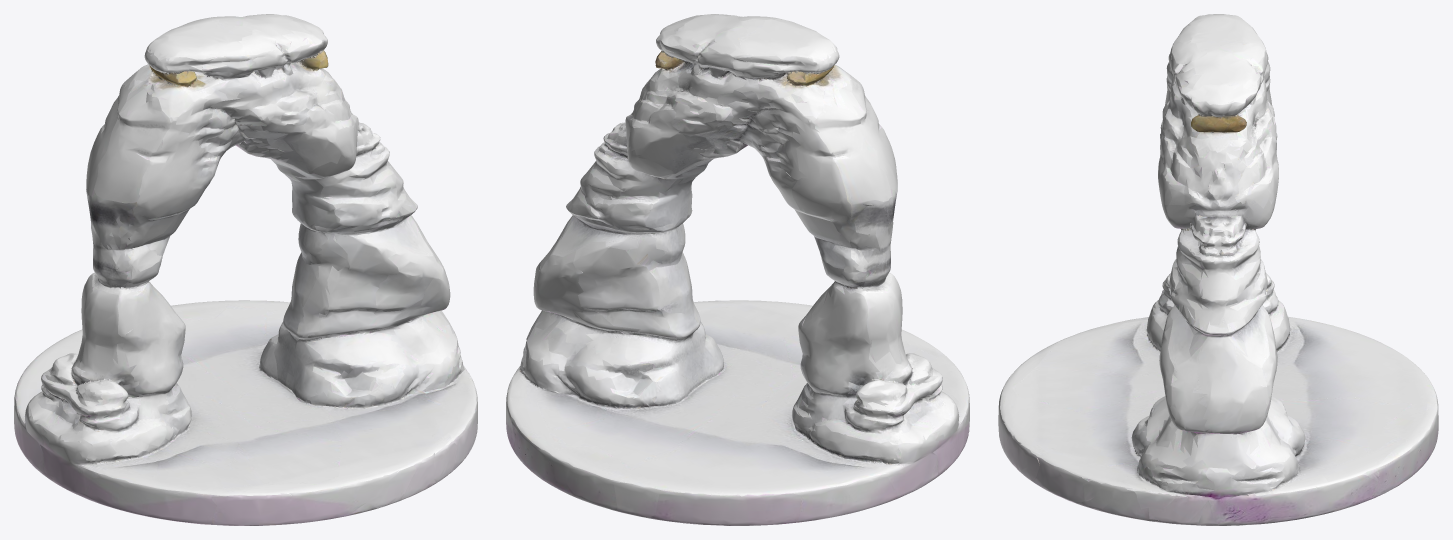
The model's file is delicate_arch.glb.
3 renders of one model, left to right at view 1: azimuth 30°, elevation 25°; view 2: azimuth 150°, elevation 25°; view 3: azimuth 270°, elevation 25°, orthographic. The views are drawn at different scales.
Size of the model in its own units: 1.9 by 1.83 by 1.89.
Materials: 1 (1 with a texture image).
